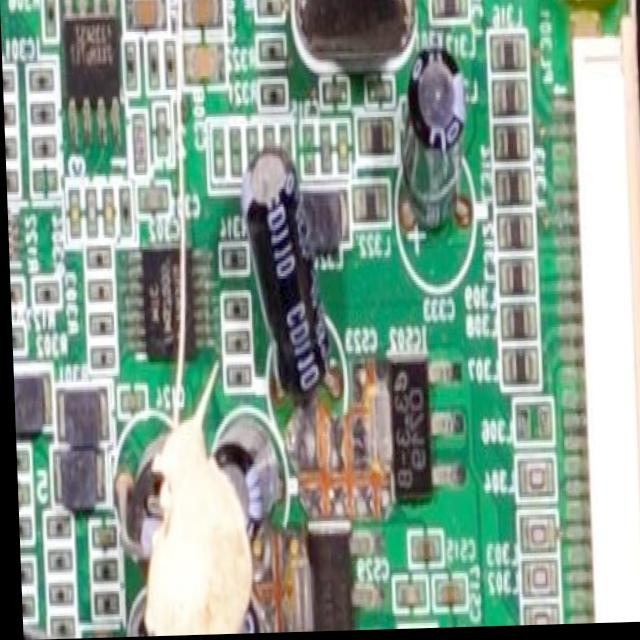IC: (139, 252, 195, 352), (62, 26, 114, 120), (396, 356, 422, 487)
capacitor: (185, 51, 229, 81), (408, 530, 440, 569), (427, 578, 463, 611), (389, 579, 424, 610), (183, 0, 218, 29), (135, 1, 165, 33), (137, 193, 169, 222), (67, 183, 81, 249), (337, 128, 349, 182), (85, 187, 96, 240), (115, 386, 139, 410), (101, 190, 112, 242)
connector: (553, 23, 640, 627), (545, 0, 629, 13)
resistor: (128, 48, 144, 100), (166, 42, 180, 92), (30, 170, 58, 194), (86, 310, 110, 335), (150, 45, 161, 98), (28, 129, 52, 152), (261, 73, 281, 100), (226, 358, 246, 384), (46, 611, 65, 638), (87, 556, 111, 577), (87, 602, 111, 623), (227, 332, 248, 355), (42, 0, 54, 40), (117, 189, 128, 232), (92, 525, 112, 547), (258, 37, 282, 55), (223, 253, 244, 271), (86, 346, 110, 361), (17, 566, 29, 594), (31, 70, 49, 88), (38, 281, 56, 299), (226, 297, 245, 314), (2, 69, 17, 90), (261, 0, 283, 14), (89, 264, 107, 281), (8, 279, 21, 302), (46, 557, 61, 576), (49, 580, 66, 596), (34, 109, 53, 123), (46, 524, 60, 543), (18, 593, 30, 614), (10, 330, 26, 345), (89, 292, 103, 308), (13, 448, 21, 468), (16, 527, 24, 545), (14, 486, 22, 502), (4, 138, 11, 153), (5, 166, 8, 189), (3, 105, 6, 123)
